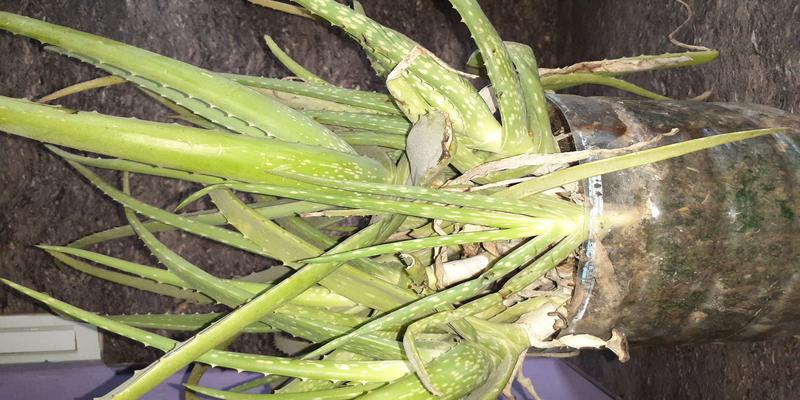Aloevera: (56, 26, 569, 392)
